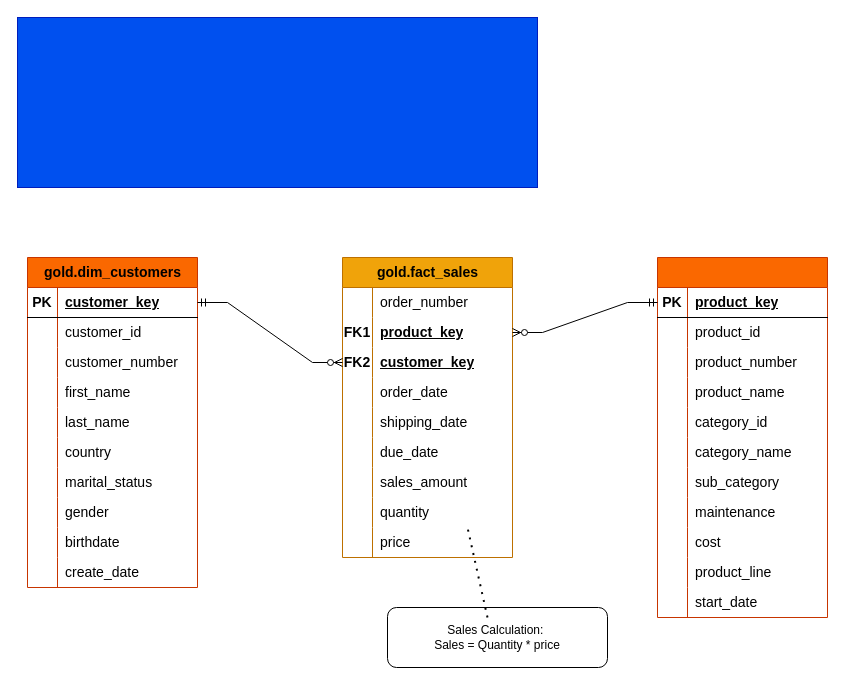
Some shapes in this 845 by 685 pixel diagram are drawn without their labels. Each missing label, with the box of its shape:
Data Model / Data Mart Star Schema: (16, 16, 538, 188)
gold.dim_products: (656, 256, 828, 618)
